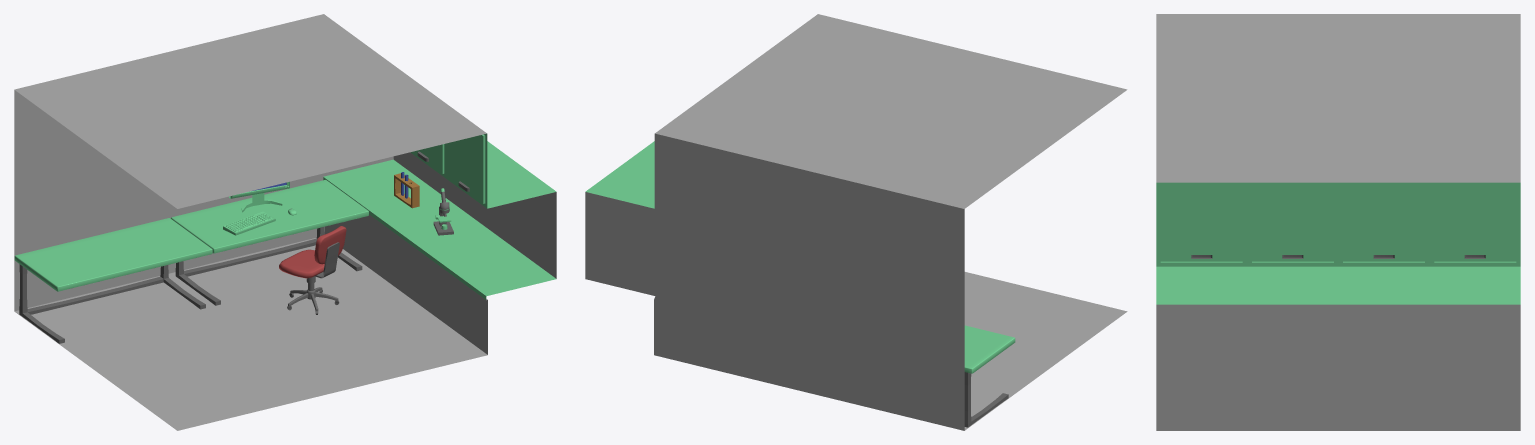
Rendered from Laboratoire.fbx.
3 views of the same model, side by side, from view 1: azimuth 30°, elevation 25°; view 2: azimuth 150°, elevation 25°; view 3: azimuth 270°, elevation 25° (orthographic). The views are drawn at different scales.
Parts seen in each view (by area): view 1: Laboratoire, Table1, Table, Chaise, Eprouvettes, Clavier, Ecran, Microscope; view 2: Laboratoire, Table1; view 3: Laboratoire.
Part boxes in pixels (x1,y1,x2,y2): Laboratoire: (14, 14, 556, 430); Table1: (14, 218, 212, 343); Table: (171, 180, 368, 305); Chaise: (279, 226, 346, 314); Eprouvettes: (394, 172, 419, 208); Clavier: (223, 211, 275, 235); Ecran: (229, 181, 289, 212); Microscope: (433, 188, 453, 235); Laboratoire: (585, 14, 1127, 430); Table1: (964, 325, 1015, 427); Laboratoire: (1156, 14, 1520, 430).
Size of the model in its own units: 77.08 by 56.87 by 42.65.
